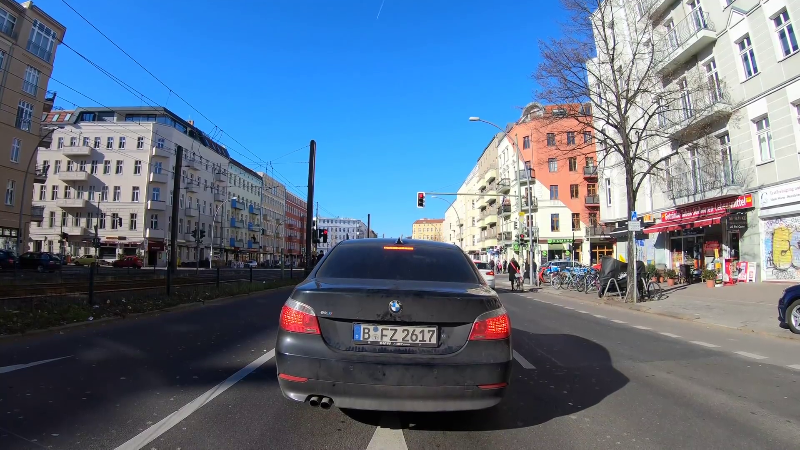Plate: (353, 322, 438, 343)
